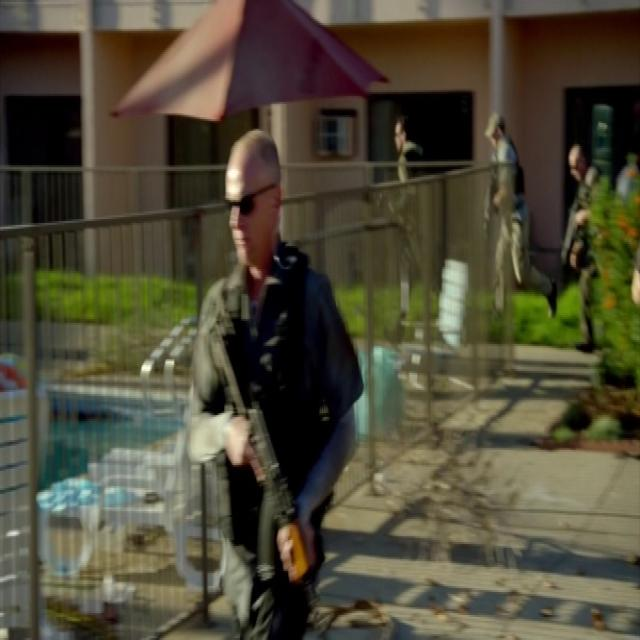rifle: (207, 324, 326, 634)
